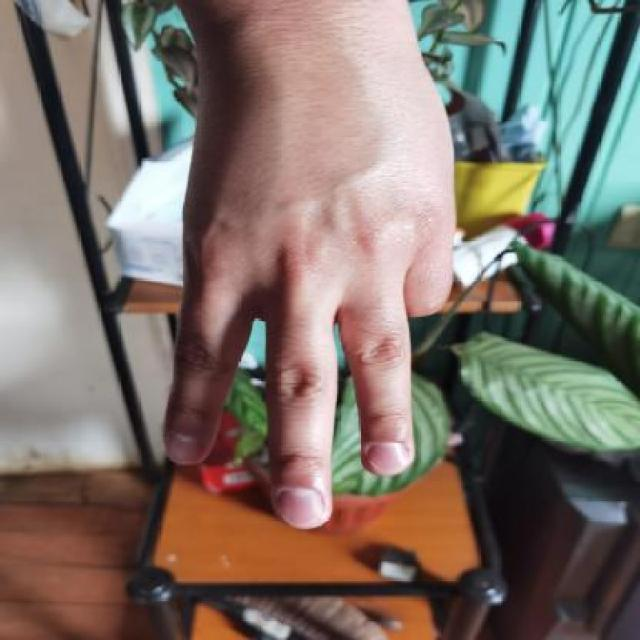M: (129, 61, 534, 539)
